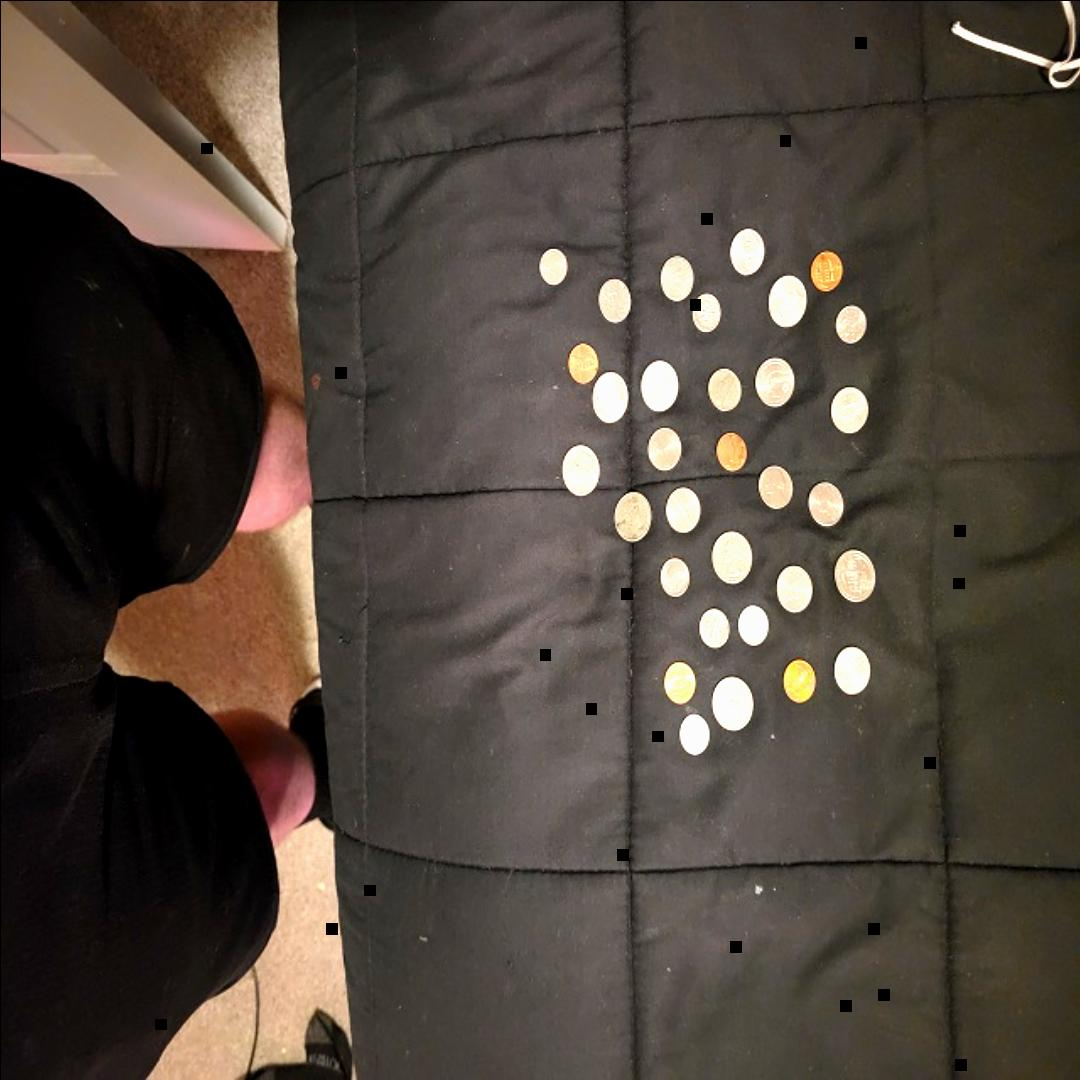Dime: (536, 242, 568, 286), (698, 606, 730, 650), (834, 301, 866, 344), (737, 604, 769, 646), (658, 554, 688, 598), (690, 292, 722, 332), (678, 714, 708, 756)
Nickel: (774, 562, 814, 612), (828, 384, 868, 434), (727, 224, 765, 276), (832, 644, 870, 694), (806, 478, 843, 528), (662, 485, 700, 533), (658, 252, 694, 300), (757, 463, 793, 509), (645, 426, 681, 472), (597, 278, 633, 322), (705, 367, 740, 411)
Penny: (781, 657, 815, 703), (660, 660, 697, 702), (807, 250, 842, 293), (714, 430, 747, 470), (567, 341, 597, 383)
Quarter: (711, 676, 754, 730), (560, 440, 600, 498), (710, 529, 752, 583), (833, 547, 875, 601), (767, 273, 807, 327), (754, 354, 793, 406), (612, 491, 652, 541), (590, 371, 628, 423), (640, 360, 678, 410)
